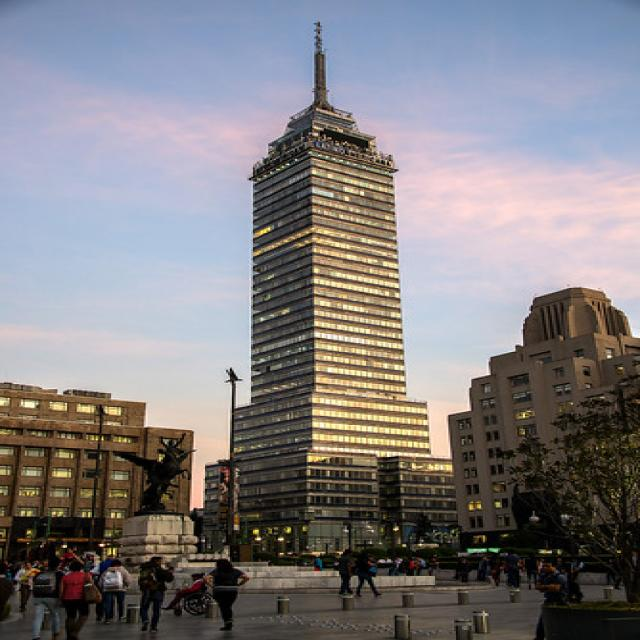Normal_building: (224, 96, 445, 572)
